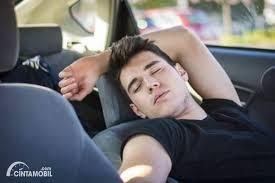Drowsy: (98, 36, 204, 137)
